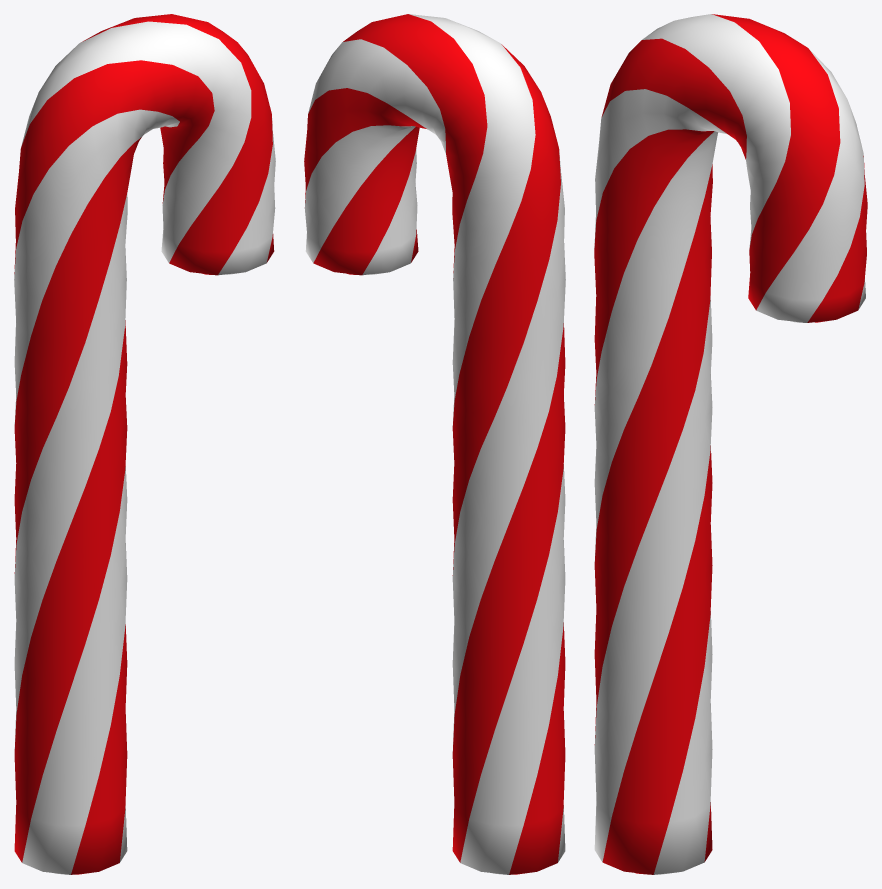
Rendered from Candy.fbx.
3 renders of one model, left to right at view 1: azimuth 30°, elevation 25°; view 2: azimuth 150°, elevation 25°; view 3: azimuth 330°, elevation 25°, orthographic. The views are drawn at different scales.
Visible parts, largest first — view 1: CandyCane_CandyCane_0; view 2: CandyCane_CandyCane_0; view 3: CandyCane_CandyCane_0.
Boxes of the visible parts, bbox=[...] form: CandyCane_CandyCane_0: bbox=[14, 14, 275, 874]; CandyCane_CandyCane_0: bbox=[304, 14, 565, 874]; CandyCane_CandyCane_0: bbox=[594, 14, 867, 874].
Size of the model in its own units: 16.82 by 53.44 by 6.66.
Materials: 1 (1 with a texture image).
